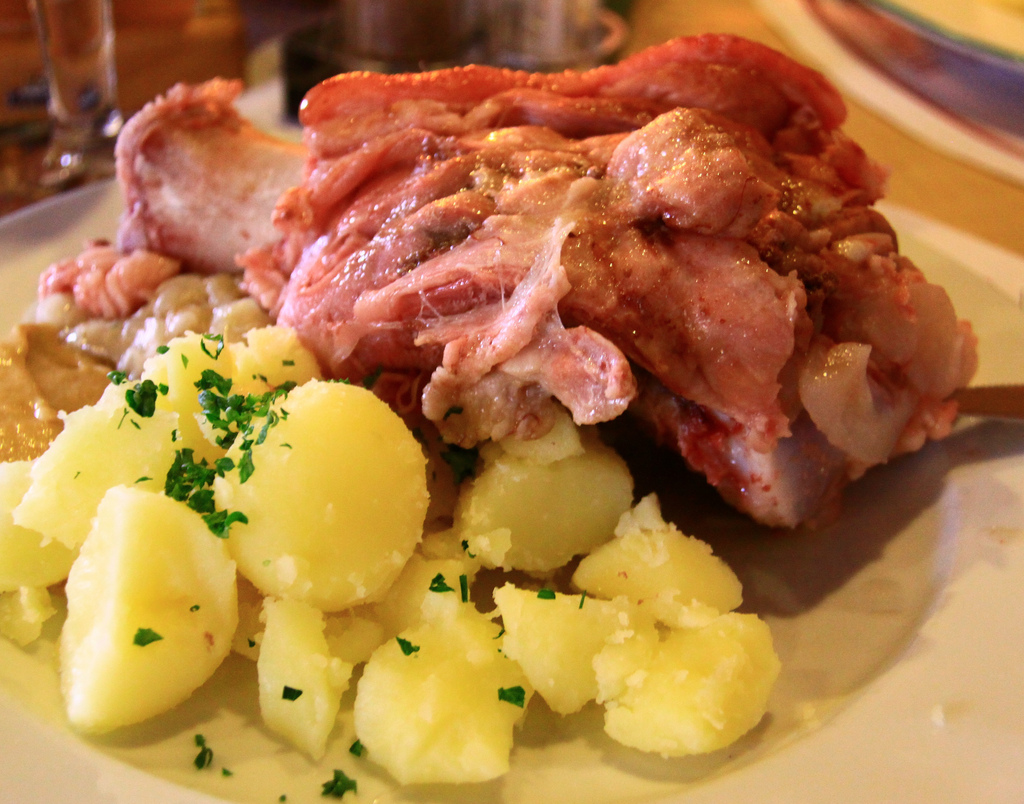boiled potatoes: (54, 360, 222, 747), (500, 575, 769, 752), (265, 599, 508, 766), (249, 376, 416, 600), (462, 440, 729, 573)
